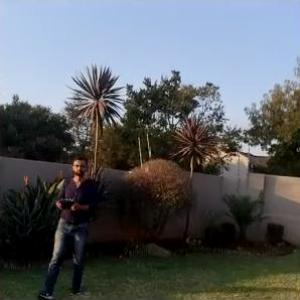follow: (33, 147, 102, 299)
